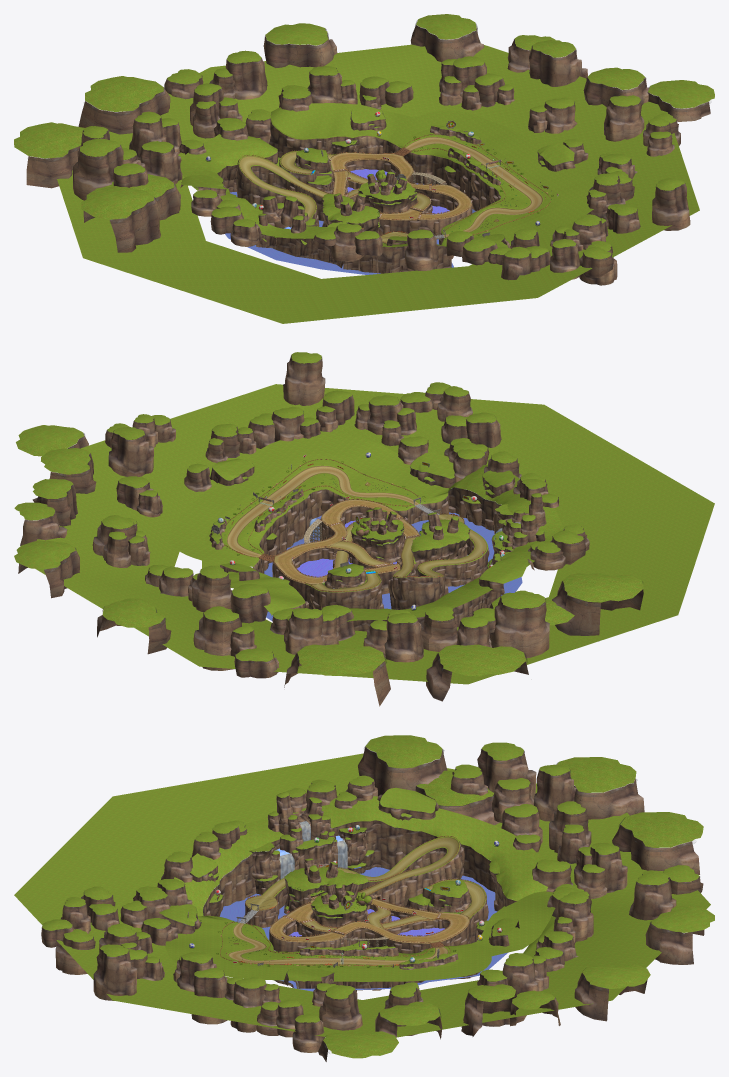
Rendered from track5.glb.
The picture shows the model from 3 angles, top to bottom: view 1: azimuth 30°, elevation 25°; view 2: azimuth 150°, elevation 25°; view 3: azimuth 270°, elevation 25°; orthographic projection. The views are drawn at different scales.
Visible parts, largest first — view 1: Object_7, Object_48, Object_25, Object_49, Object_44, Object_8, Object_28, Object_39, Object_45, Object_37, Object_9, Object_36 (+4 smaller); view 2: Object_7, Object_48, Object_25, Object_44, Object_8, Object_49, Object_28, Object_45, Object_39, Object_37, Object_61, Object_9 (+5 smaller); view 3: Object_7, Object_48, Object_25, Object_49, Object_8, Object_44, Object_28, Object_39, Object_45, Object_61, Object_37, Object_36 (+6 smaller).
Boxes of the visible parts, x1=… form: Object_7: x1=14, y1=14, x2=714, y2=323; Object_48: x1=26, y1=25, x2=710, y2=285; Object_25: x1=270, y1=103, x2=593, y2=247; Object_49: x1=217, y1=119, x2=500, y2=273; Object_44: x1=236, y1=159, x2=472, y2=247; Object_8: x1=181, y1=107, x2=574, y2=249; Object_28: x1=28, y1=20, x2=708, y2=260; Object_39: x1=239, y1=151, x2=430, y2=218; Object_45: x1=295, y1=126, x2=500, y2=236; Object_37: x1=405, y1=137, x2=542, y2=236; Object_9: x1=238, y1=118, x2=543, y2=234; Object_36: x1=333, y1=171, x2=471, y2=229; Object_7: x1=14, y1=352, x2=714, y2=684; Object_48: x1=18, y1=355, x2=643, y2=706; Object_25: x1=169, y1=431, x2=448, y2=614; Object_44: x1=273, y1=506, x2=488, y2=610; Object_8: x1=211, y1=452, x2=528, y2=583; Object_49: x1=253, y1=487, x2=545, y2=631; Object_28: x1=27, y1=356, x2=642, y2=674; Object_45: x1=215, y1=489, x2=470, y2=588; Object_39: x1=308, y1=524, x2=487, y2=591; Object_37: x1=227, y1=465, x2=418, y2=557; Object_61: x1=264, y1=512, x2=522, y2=621; Object_9: x1=226, y1=465, x2=488, y2=615; Object_7: x1=14, y1=735, x2=714, y2=1058; Object_48: x1=41, y1=747, x2=704, y2=1061; Object_25: x1=165, y1=891, x2=558, y2=981; Object_49: x1=203, y1=810, x2=516, y2=990; Object_8: x1=159, y1=787, x2=518, y2=981; Object_44: x1=245, y1=841, x2=486, y2=953; Object_28: x1=41, y1=742, x2=699, y2=1052; Object_39: x1=263, y1=837, x2=485, y2=931; Object_45: x1=284, y1=878, x2=470, y2=969; Object_61: x1=219, y1=866, x2=508, y2=991; Object_37: x1=228, y1=923, x2=448, y2=964; Object_36: x1=270, y1=897, x2=438, y2=941.
Size of what is drawn, in the model's own units: 392 by 53.58 by 357.
Materials: 56 (55 with a texture image).
